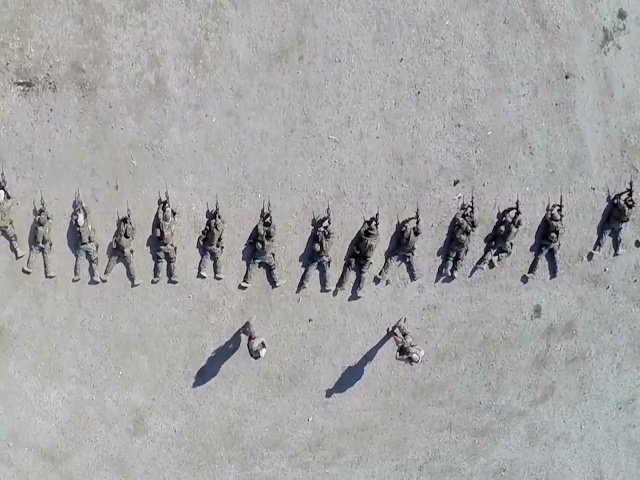person: (238, 205, 286, 291), (334, 211, 380, 300), (436, 195, 483, 281), (521, 203, 568, 284), (297, 205, 338, 295), (587, 188, 634, 261), (478, 200, 524, 274), (146, 191, 182, 285), (375, 213, 424, 281), (101, 205, 141, 286), (67, 192, 100, 285), (23, 194, 58, 277), (195, 200, 228, 282), (387, 317, 427, 368), (241, 314, 270, 362)
